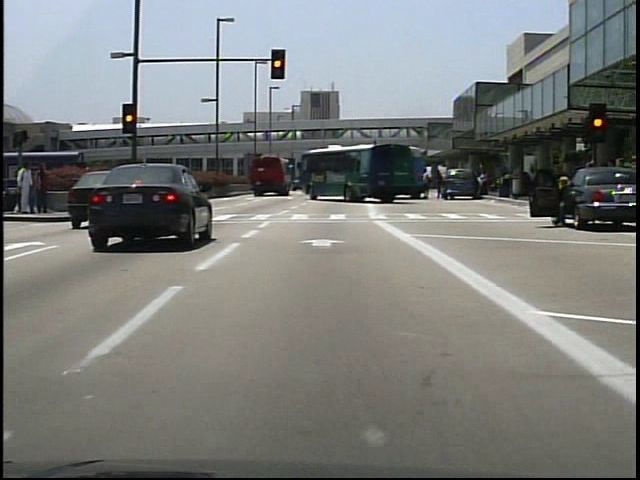person: (549, 171, 579, 230), (17, 161, 38, 215), (34, 162, 52, 220), (417, 167, 431, 201), (475, 169, 486, 199)
